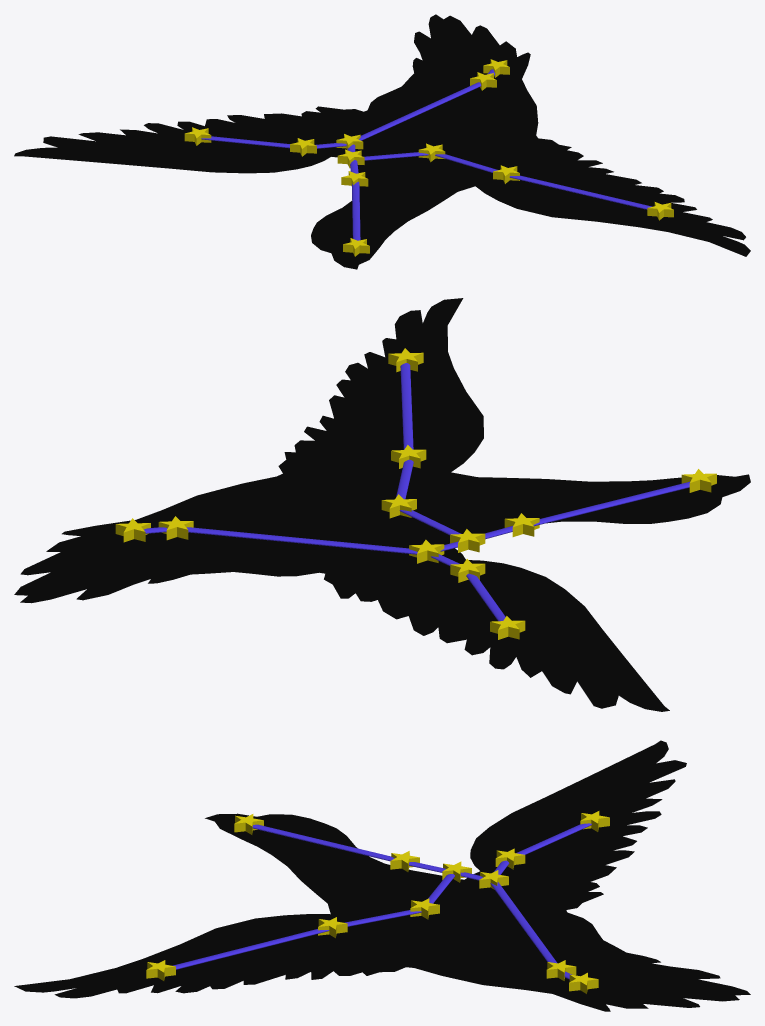
The model's file is Wasi-za.glb.
3 renders of one model, top to bottom at view 1: azimuth 30°, elevation 25°; view 2: azimuth 150°, elevation 25°; view 3: azimuth 270°, elevation 25°, orthographic. The views are drawn at different scales.
Visible parts, largest first — view 1: 円, 円柱.001, 円柱.010, 円柱.005; view 2: 円, 円柱.001, 円柱.005, 円柱.010; view 3: 円, 円柱.010, 円柱.005, 円柱.001.
Boxes of the visible parts, x1,y1,x2,y2 form: 円: (14, 14, 750, 269); 円柱.001: (359, 82, 481, 140); 円柱.010: (509, 175, 651, 209); 円柱.005: (352, 181, 360, 240); 円: (14, 298, 750, 711); 円柱.001: (186, 527, 417, 554); 円柱.005: (533, 481, 689, 526); 円柱.010: (400, 363, 413, 449); 円: (14, 740, 750, 1011); 円柱.010: (172, 929, 329, 969); 円柱.005: (252, 824, 394, 861); 円柱.001: (490, 882, 557, 963).
Size of the model in its own units: 59.56 by 0.8959 by 68.41.
